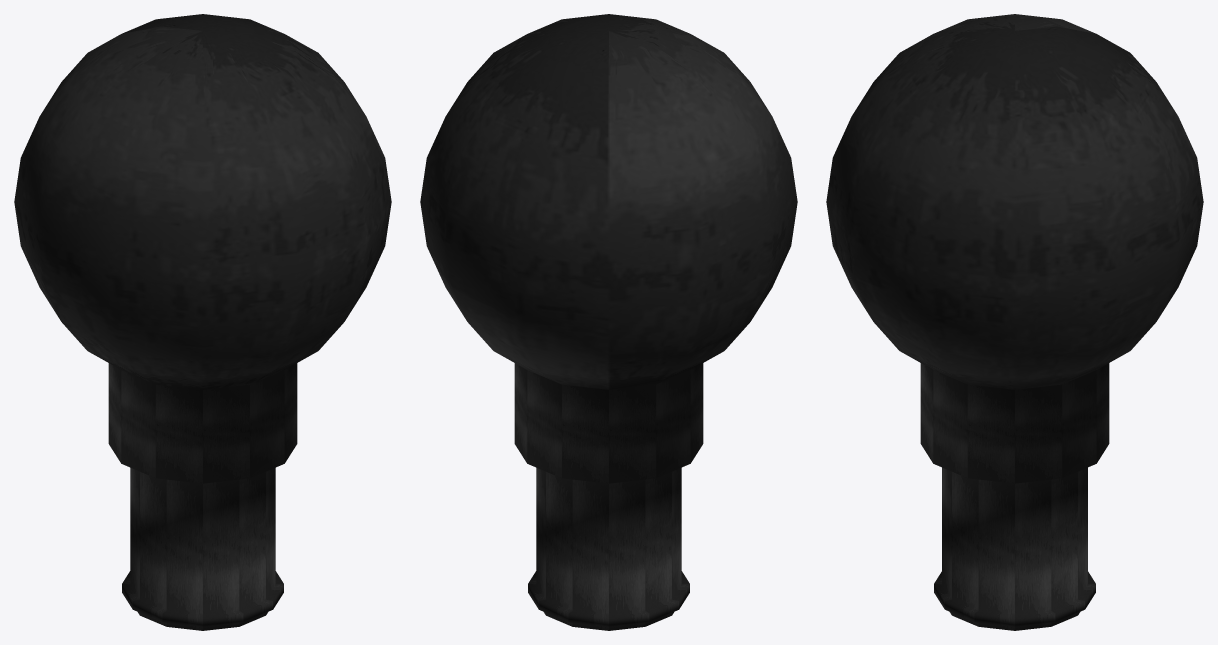
The model's file is foco.obj.
3 views of the same model, side by side, from view 1: azimuth 30°, elevation 25°; view 2: azimuth 150°, elevation 25°; view 3: azimuth 270°, elevation 25° (orthographic).
Parts seen in each view (by area): view 1: Foco; view 2: Foco; view 3: Foco.
Part boxes in pixels (x1=…): Foco: x1=14, y1=14, x2=391, y2=630; Foco: x1=420, y1=14, x2=797, y2=630; Foco: x1=826, y1=14, x2=1203, y2=630.
Size of the model in its own units: 0.434 by 0.7225 by 0.434.
Materials: 2 (2 with a texture image).
